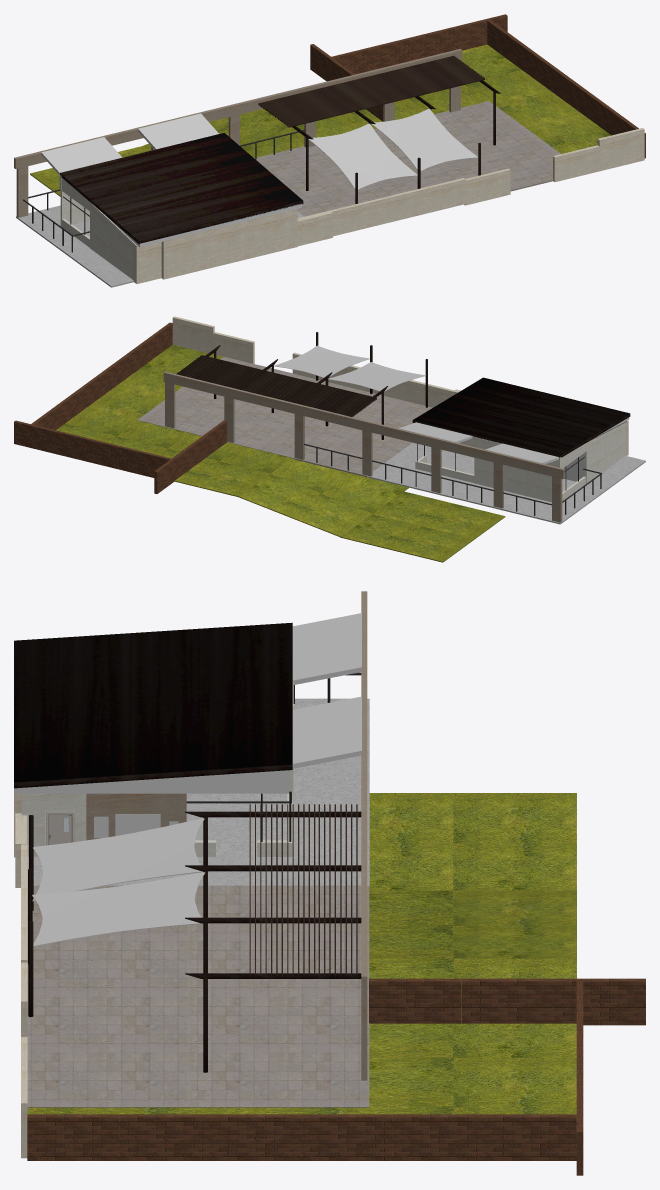
Rendered from scense.obj.
3 renders of one model, top to bottom at view 1: azimuth 30°, elevation 25°; view 2: azimuth 150°, elevation 25°; view 3: azimuth 270°, elevation 25°, orthographic. The views are drawn at different scales.
Visible parts, largest first — view 1: Box142, Box039, Box012, Box110, Box111, Box013, Box097, Box102, Box099, Box100, Box122, Box129 (+55 smaller); view 2: Box039, Box142, Box012, Box038, Box037, Box143, Box144, Box035, Box013, Box034, Box097, Box111 (+46 smaller); view 3: Box039, Box142, Box143, Box038, Box144, Box110, Box111, Box014, Box035, Box012, Box037, Box034 (+26 smaller).
Part boxes in pixels (x1,y1,x2,y2): Box142: [60, 133, 303, 243]; Box039: [254, 101, 560, 216]; Box012: [408, 70, 581, 127]; Box110: [308, 123, 417, 189]; Box111: [371, 108, 478, 171]; Box013: [526, 114, 611, 153]; Box097: [90, 202, 136, 279]; Box102: [161, 230, 208, 279]; Box099: [252, 208, 297, 257]; Box100: [208, 219, 252, 268]; Box122: [41, 137, 122, 174]; Box129: [138, 113, 218, 149]; Box039: [137, 357, 432, 476]; Box142: [412, 377, 630, 457]; Box012: [65, 384, 188, 448]; Box038: [239, 474, 372, 536]; Box037: [271, 458, 408, 513]; Box143: [340, 514, 473, 562]; Box144: [372, 491, 505, 539]; Box035: [159, 449, 269, 497]; Box013: [119, 345, 222, 395]; Box034: [168, 433, 291, 473]; Box097: [584, 421, 626, 483]; Box111: [274, 345, 370, 377]; Box039: [27, 885, 369, 1107]; Box142: [14, 622, 292, 788]; Box143: [453, 793, 576, 890]; Box038: [453, 890, 576, 958]; Box144: [369, 793, 454, 890]; Box110: [32, 818, 204, 901]; Box111: [32, 872, 205, 946]; Box014: [453, 1057, 576, 1114]; Box035: [453, 958, 576, 1057]; Box012: [240, 1057, 453, 1114]; Box037: [369, 890, 452, 958]; Box034: [369, 958, 453, 1057].
Bounding box in the file's own units: 442 × 60.15 × 248.
